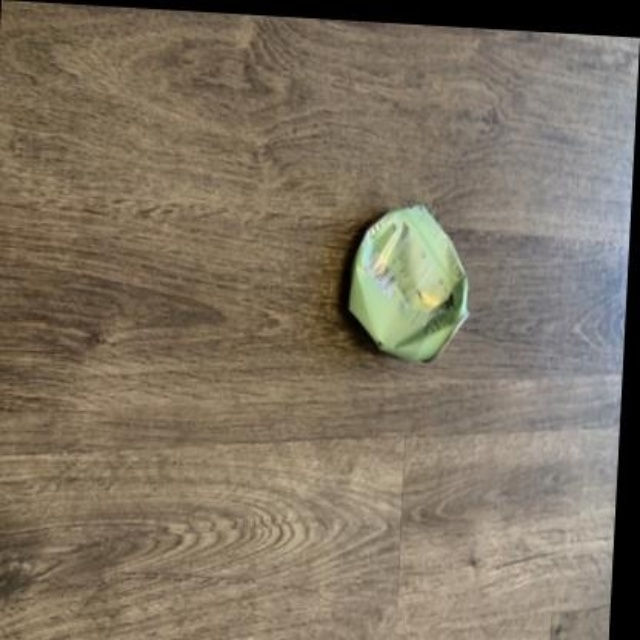trash: (349, 205, 466, 360)
